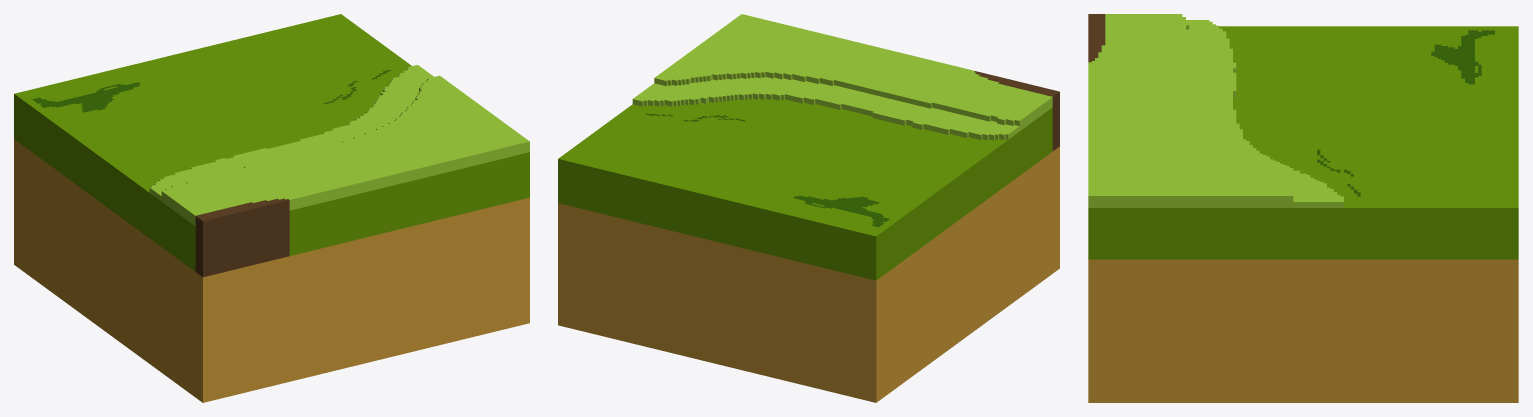
The picture shows the model from 3 angles, left to right: view 1: azimuth 30°, elevation 25°; view 2: azimuth 150°, elevation 25°; view 3: azimuth 270°, elevation 25°; orthographic projection. The views are drawn at different scales.
Visible parts, largest first — view 1: 8N; view 2: 8N; view 3: 8N.
Boxes of the visible parts, x1,y1,x2,y2 form: 8N: [14, 14, 529, 402]; 8N: [558, 14, 1059, 402]; 8N: [1088, 14, 1518, 402].
Size of the model in its own units: 12.8 by 6.8 by 12.8.
1 material, 1 textured.
